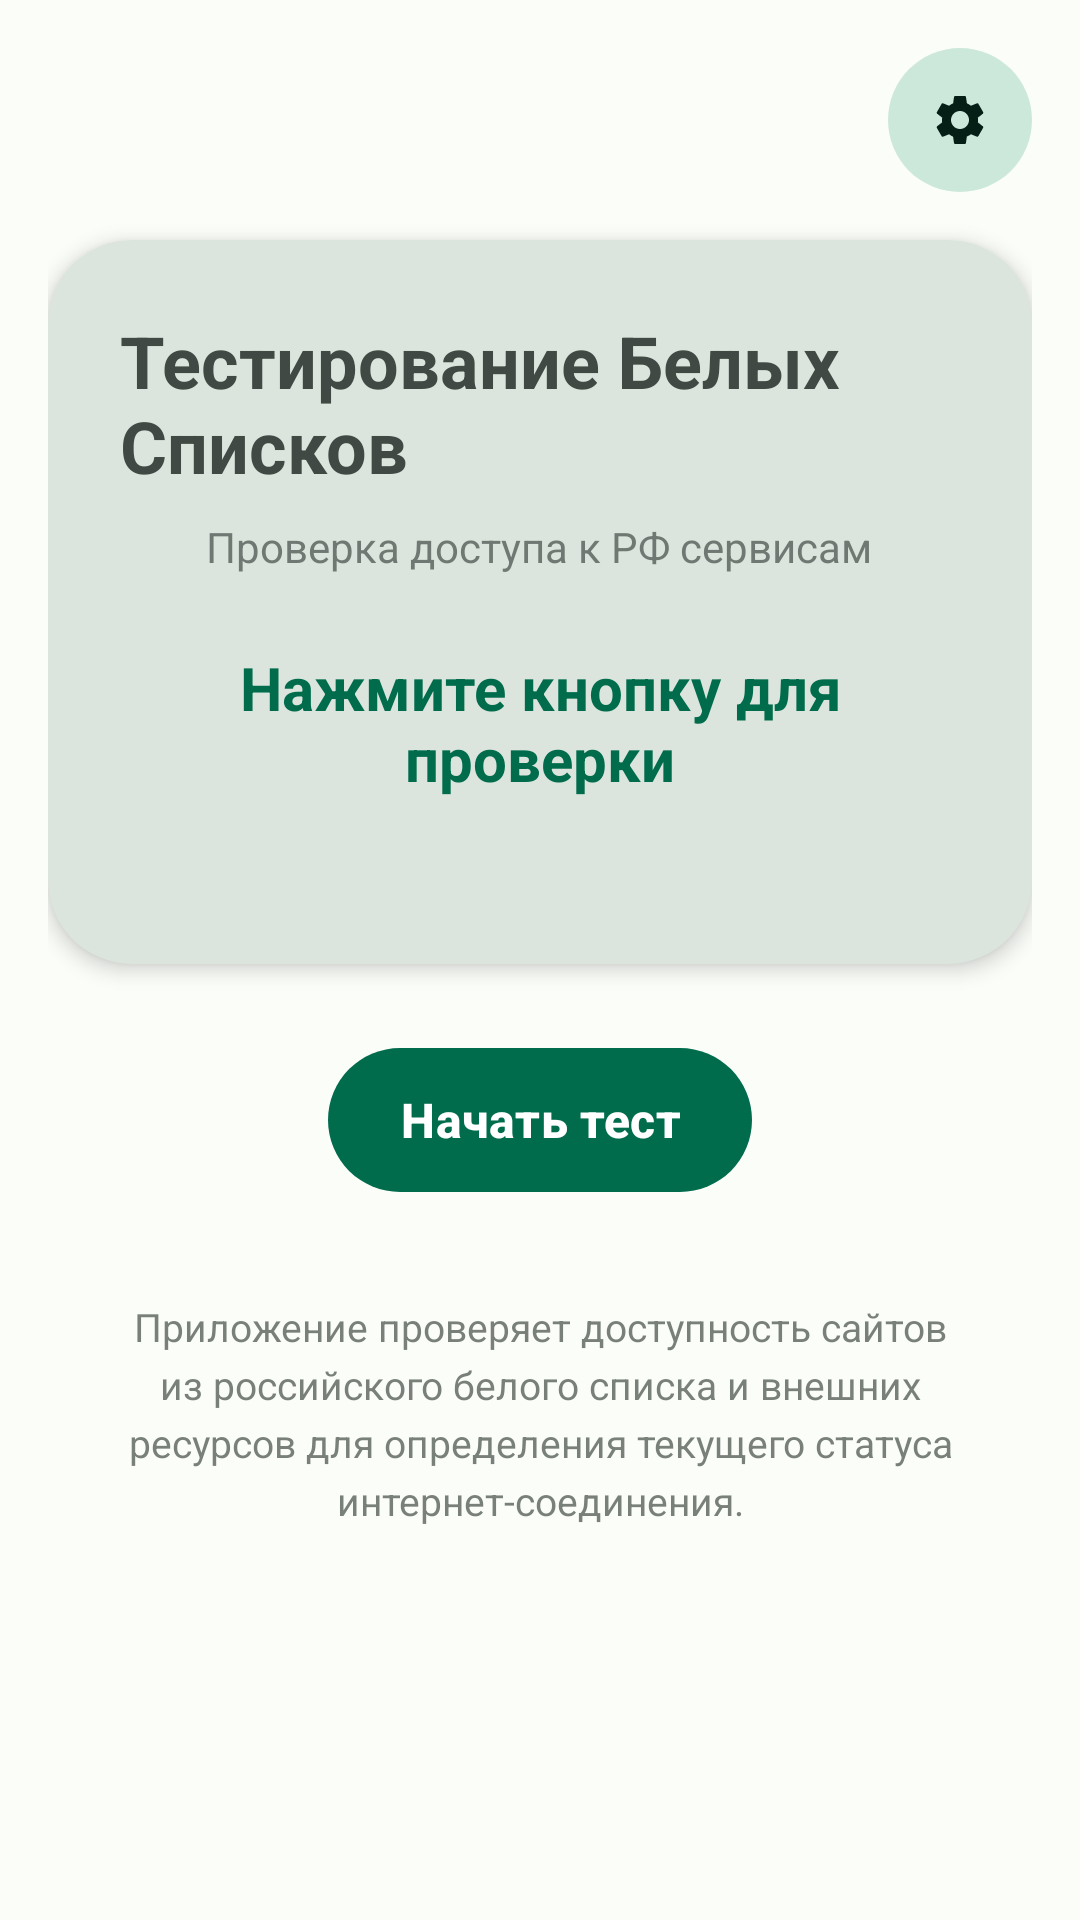

Point at icon controls on the screen. Image size 1080x1920, points as (x=x, y=y).
settings: (x=960, y=120)
